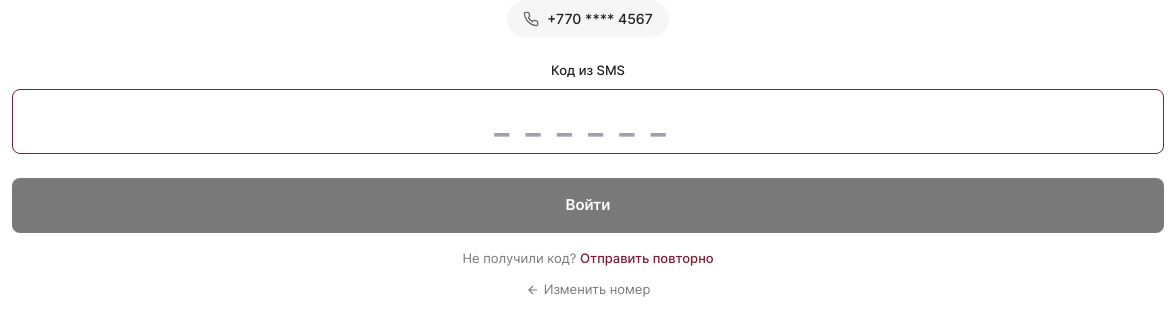
Test: Форма ввода кода › игнорирует буквы и лишние цифры при вводе
Step 1. Type "12ab34cd5678" into the field with placeholder "______" → point(588, 121), box [12, 88, 1164, 154]
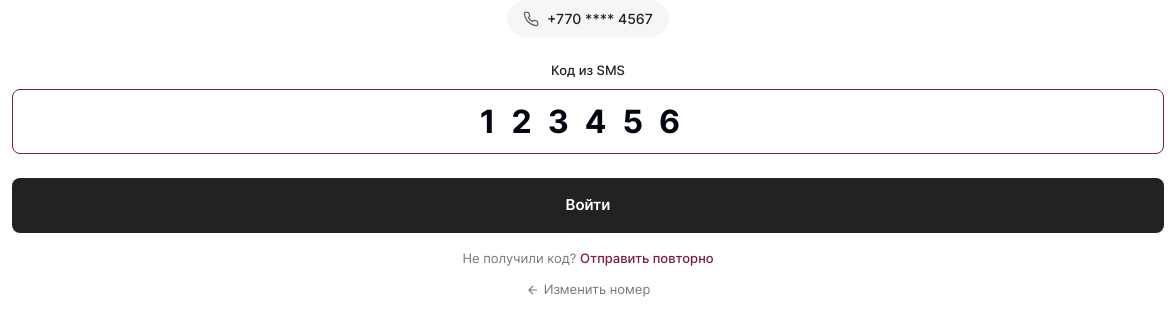
Expected: the field with placeholder "______" holds "123456", [12, 88, 1164, 154]
